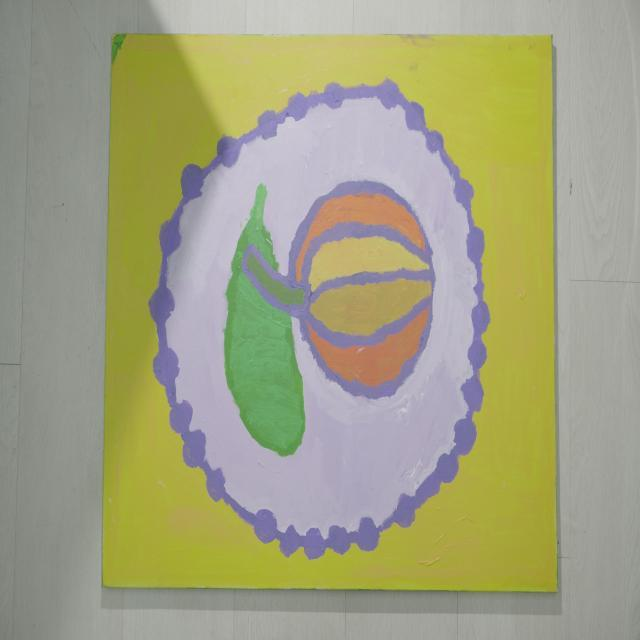painting: (103, 34, 557, 591)
